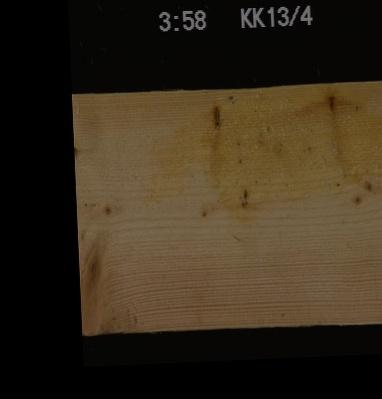small_knot: (75, 187, 120, 236), (73, 144, 77, 157)
